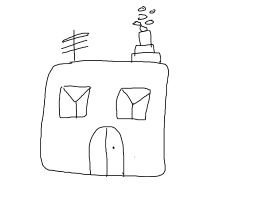closed_window: (111, 83, 156, 124), (54, 80, 97, 120)
door: (85, 122, 131, 176)
single_line_roof: (30, 54, 189, 75)
smoking_chimney: (123, 3, 169, 69)
wall: (35, 56, 171, 180)
